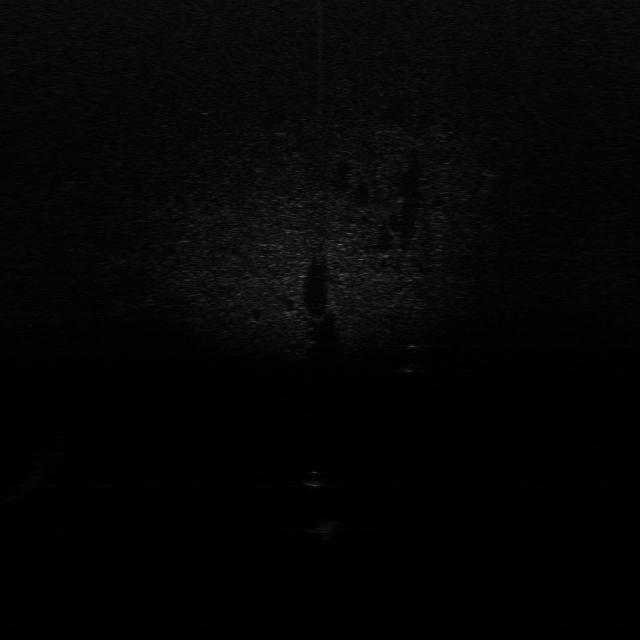ball: (302, 469, 332, 490)
square cage: (310, 512, 344, 543)
tyre: (400, 343, 424, 374)
